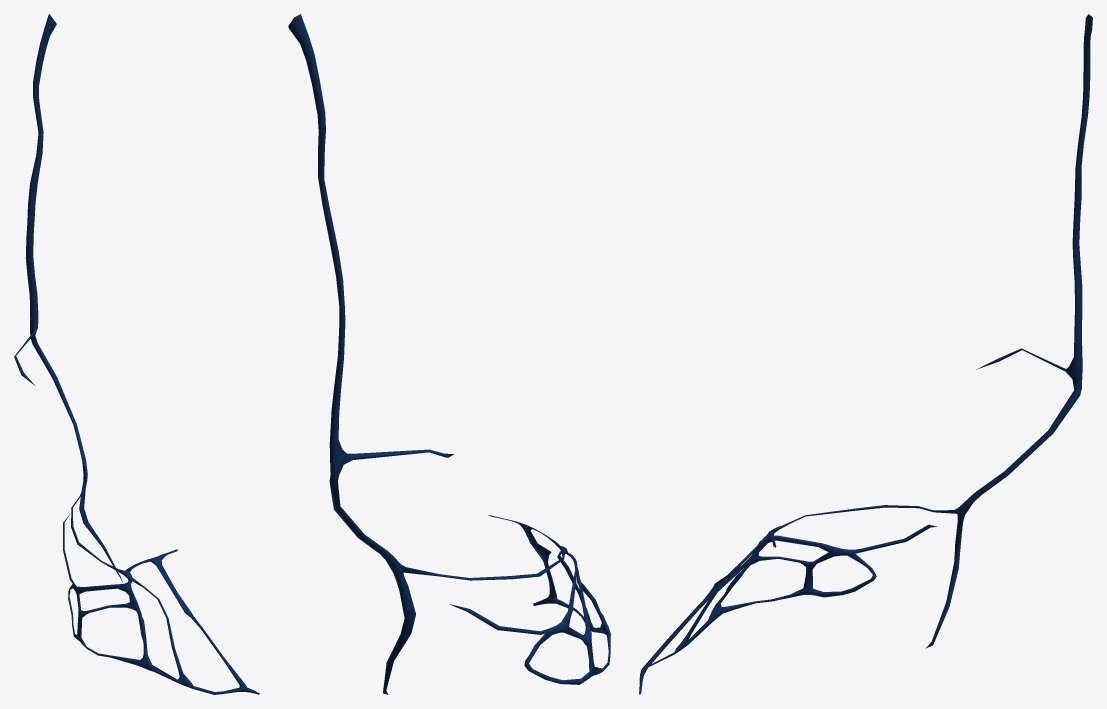
The model's file is L vena digitales medialis.fbx.
3 renders of one model, left to right at view 1: azimuth 30°, elevation 25°; view 2: azimuth 150°, elevation 25°; view 3: azimuth 270°, elevation 25°, orthographic. The views are drawn at different scales.
Visible parts, largest first — view 1: L vena digitales medialis, L vena digitales medialis low; view 2: L vena digitales medialis, L vena digitales medialis low; view 3: L vena digitales medialis, L vena digitales medialis low.
Part boxes in pixels (x1,y1,x2,y2): L vena digitales medialis: (14, 14, 259, 694); L vena digitales medialis low: (15, 16, 251, 693); L vena digitales medialis: (288, 14, 610, 694); L vena digitales medialis low: (291, 15, 610, 693); L vena digitales medialis: (639, 14, 1092, 694); L vena digitales medialis low: (640, 16, 1089, 691).
Bounding box in the file's own units: 2.63 × 12.45 × 7.69.
